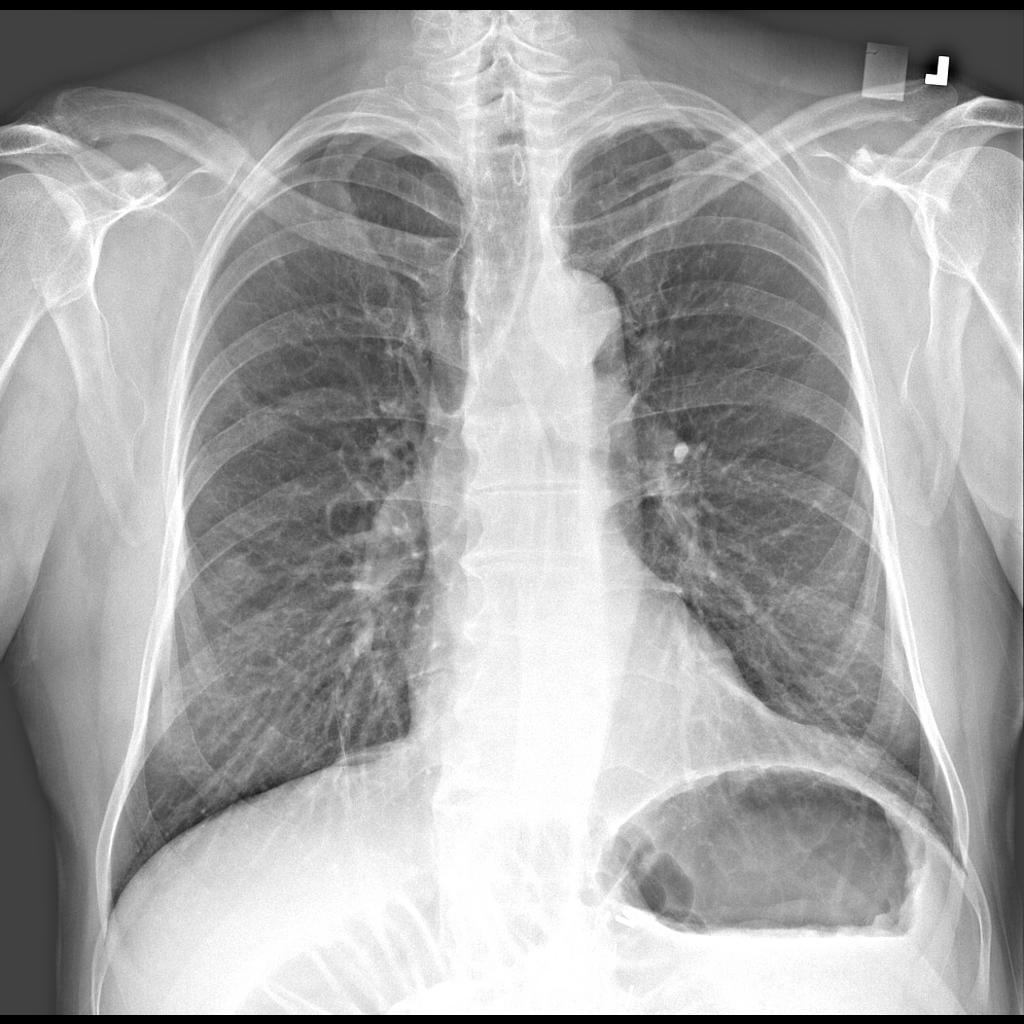Nodule: (199, 532, 285, 609)
